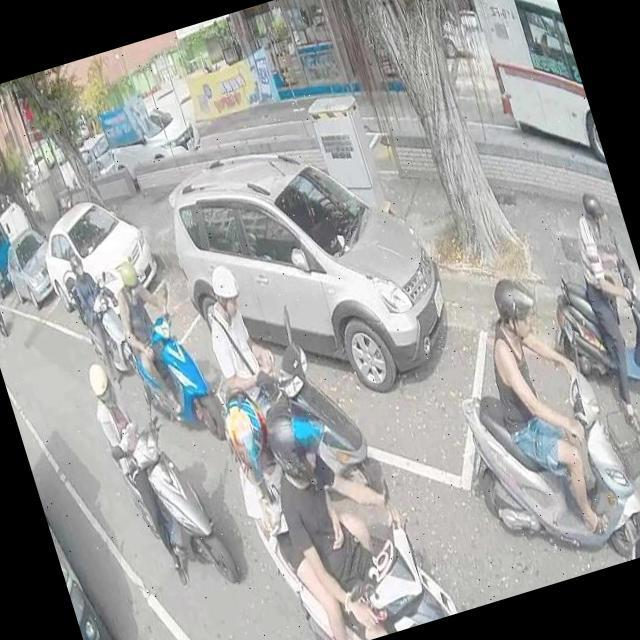person: (251, 369, 444, 640), (211, 360, 397, 640), (463, 256, 631, 557), (82, 344, 200, 596), (554, 186, 640, 423), (189, 258, 296, 424), (105, 239, 199, 420), (59, 252, 126, 384), (614, 514, 640, 561)
